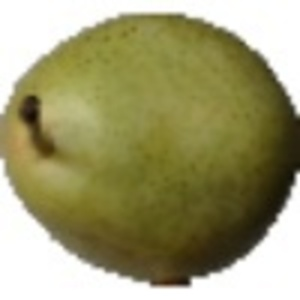pera: (1, 1, 300, 290)
